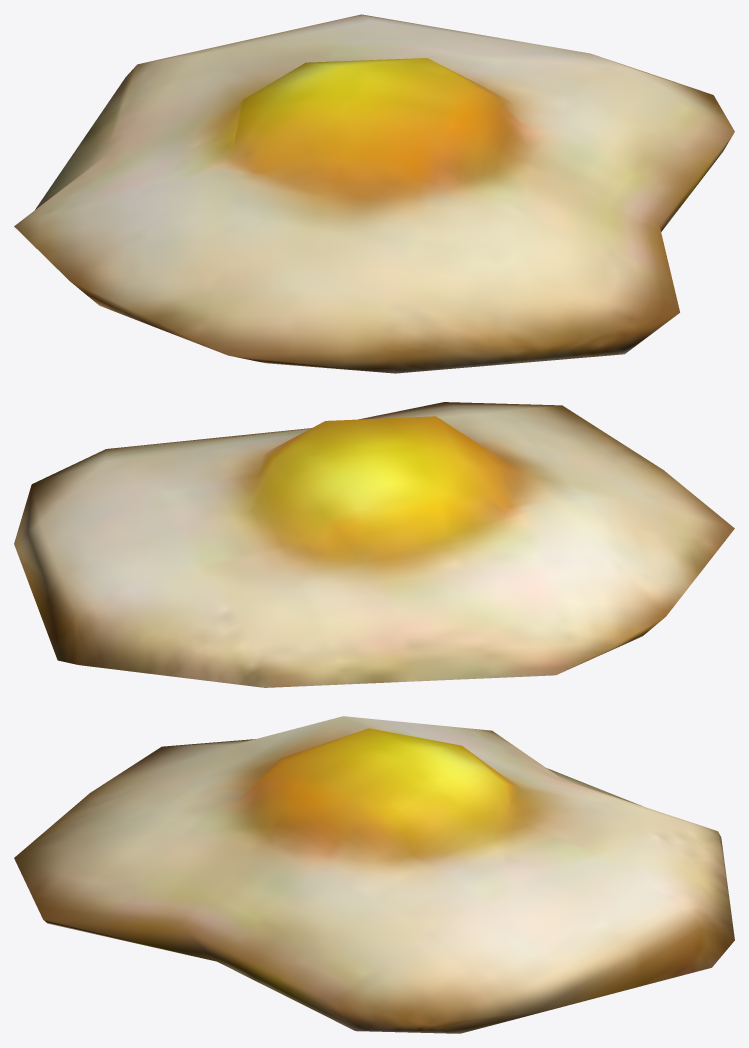
Rendered from SM_omelet_00.gltf.
The picture shows the model from 3 angles, top to bottom: view 1: azimuth 30°, elevation 25°; view 2: azimuth 150°, elevation 25°; view 3: azimuth 270°, elevation 25°; orthographic projection. The views are drawn at different scales.
Parts seen in each view (by area): view 1: SM_omelet_00; view 2: SM_omelet_00; view 3: SM_omelet_00.
Boxes of the visible parts, box(x1,y1,x2,y2) form: SM_omelet_00: box(14, 14, 734, 373); SM_omelet_00: box(14, 402, 734, 687); SM_omelet_00: box(14, 716, 734, 1033).
Bounding box in the file's own units: 0.2266 × 0.0498 × 0.2336.
Materials: 1 (1 with a texture image).
